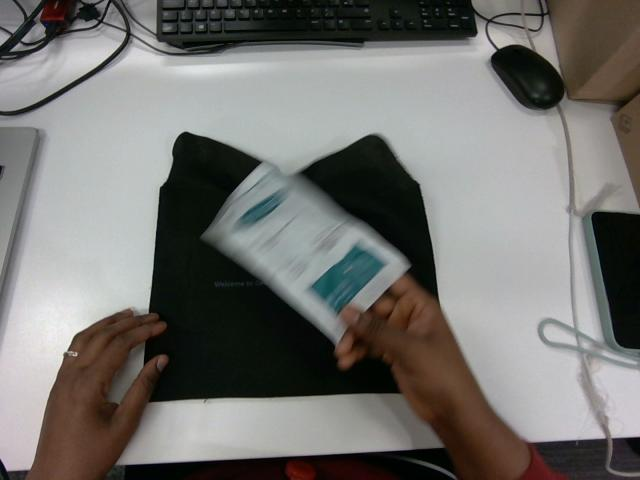gallipot: (201, 163, 409, 342)
